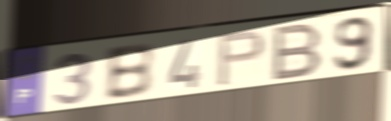3: (51, 49, 95, 106)
4: (167, 37, 203, 90)
9: (332, 15, 377, 73)
B: (268, 20, 325, 83), (103, 41, 157, 103)
P: (214, 28, 268, 88)
